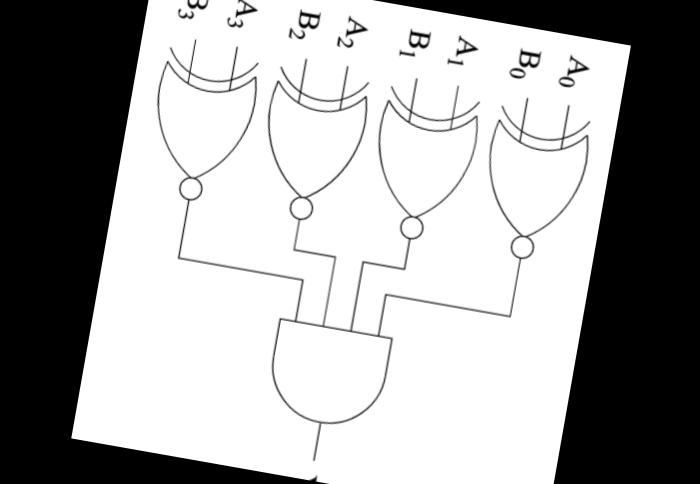xnor: (462, 98, 602, 278), (354, 74, 488, 256), (133, 38, 267, 218), (245, 56, 378, 237)
